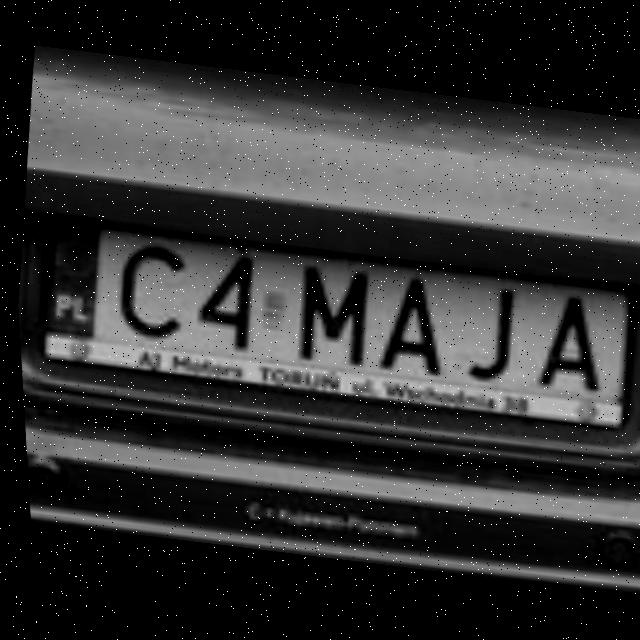license-plates: (44, 224, 629, 428)
